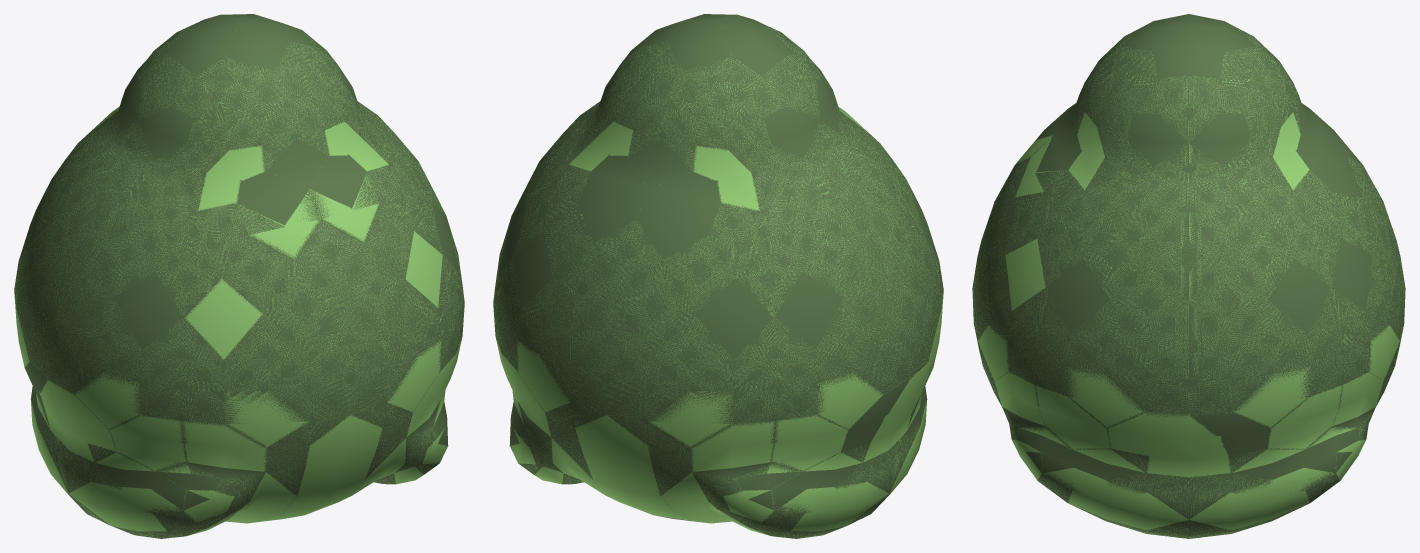
3 renders of one model, left to right at view 1: azimuth 30°, elevation 25°; view 2: azimuth 150°, elevation 25°; view 3: azimuth 270°, elevation 25°, orthographic. The views are drawn at different scales.
Visible parts, largest first — view 1: Object_2, Object_3; view 2: Object_2, Object_3; view 3: Object_2, Object_3.
Part boxes in pixels (x1,y1,x2,y2): Object_2: (14, 14, 464, 538); Object_3: (14, 22, 464, 538); Object_2: (493, 14, 943, 538); Object_3: (493, 23, 943, 538); Object_2: (972, 14, 1405, 538); Object_3: (972, 24, 1404, 538).
Size of the model in its own units: 0.5084 by 0.5995 by 0.5088.
